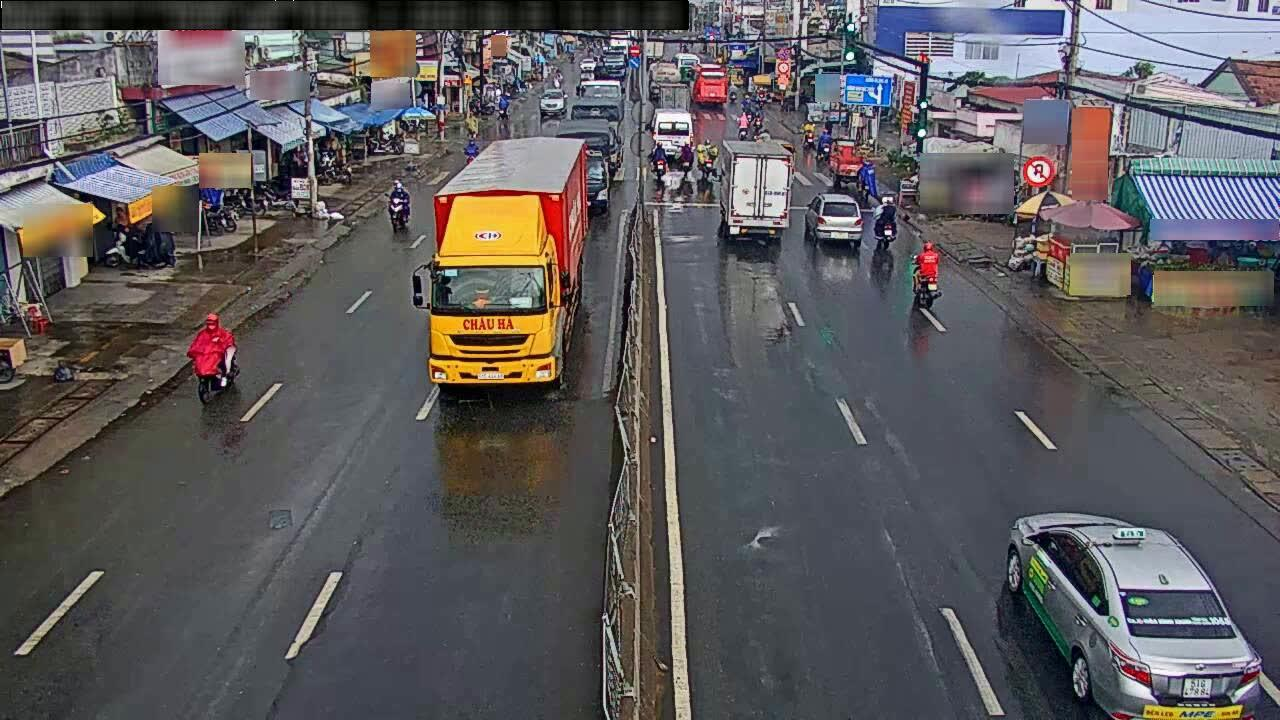14: (653, 104, 695, 161)
8: (426, 143, 583, 386), (725, 142, 796, 240)
container: (806, 190, 866, 253)
motorbike: (183, 313, 243, 403), (901, 240, 949, 313), (379, 175, 416, 239), (870, 193, 901, 247), (696, 136, 719, 185), (648, 137, 667, 182), (676, 139, 695, 180)
